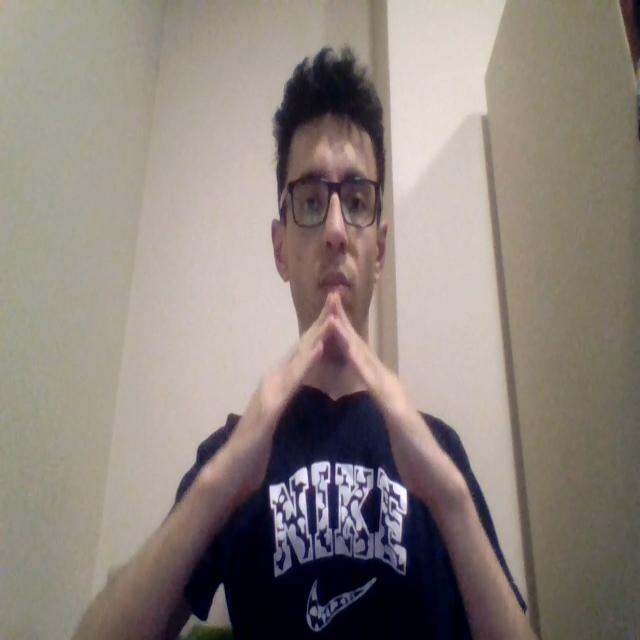house: (226, 289, 448, 502)
